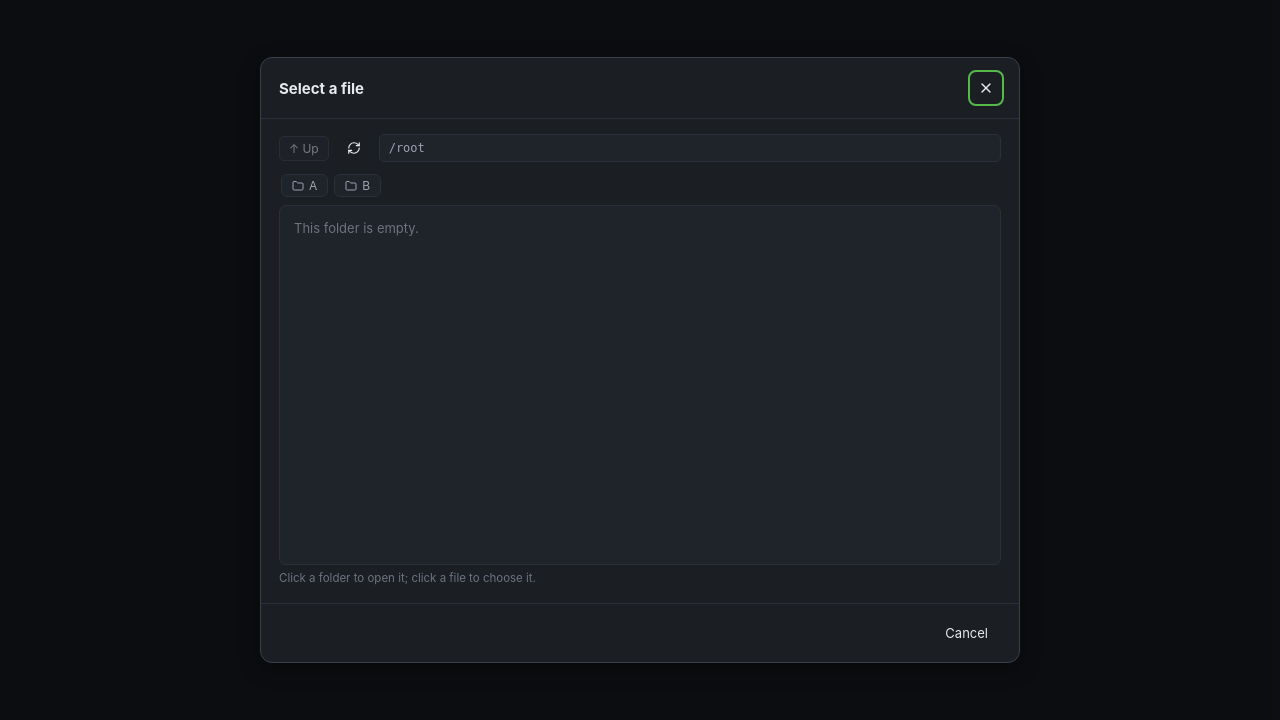
Test case: async request ownership regressions › prevents an older FileBrowser response from replacing the newest path
Expected: the text "/root" is shown, [379,134,1001,162]
Click the button "A": (305, 186) [281,174,328,197]
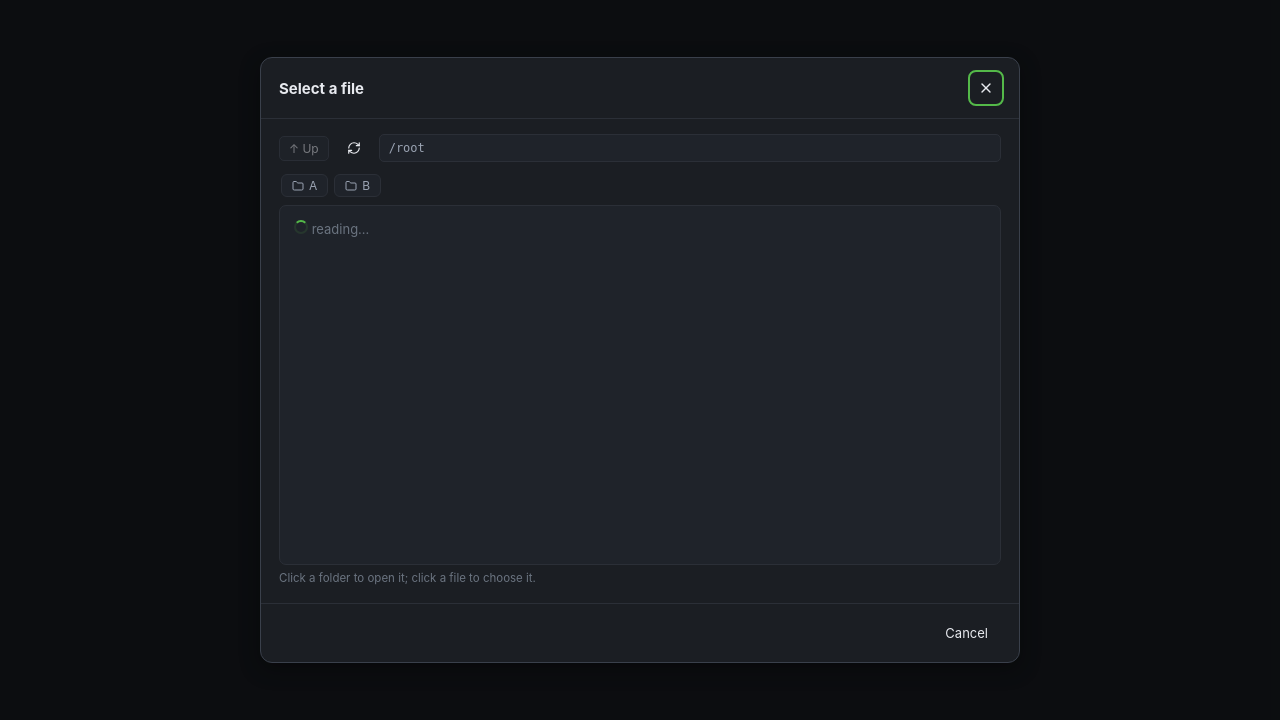
Click the button "B": (358, 186) [334,174,381,197]
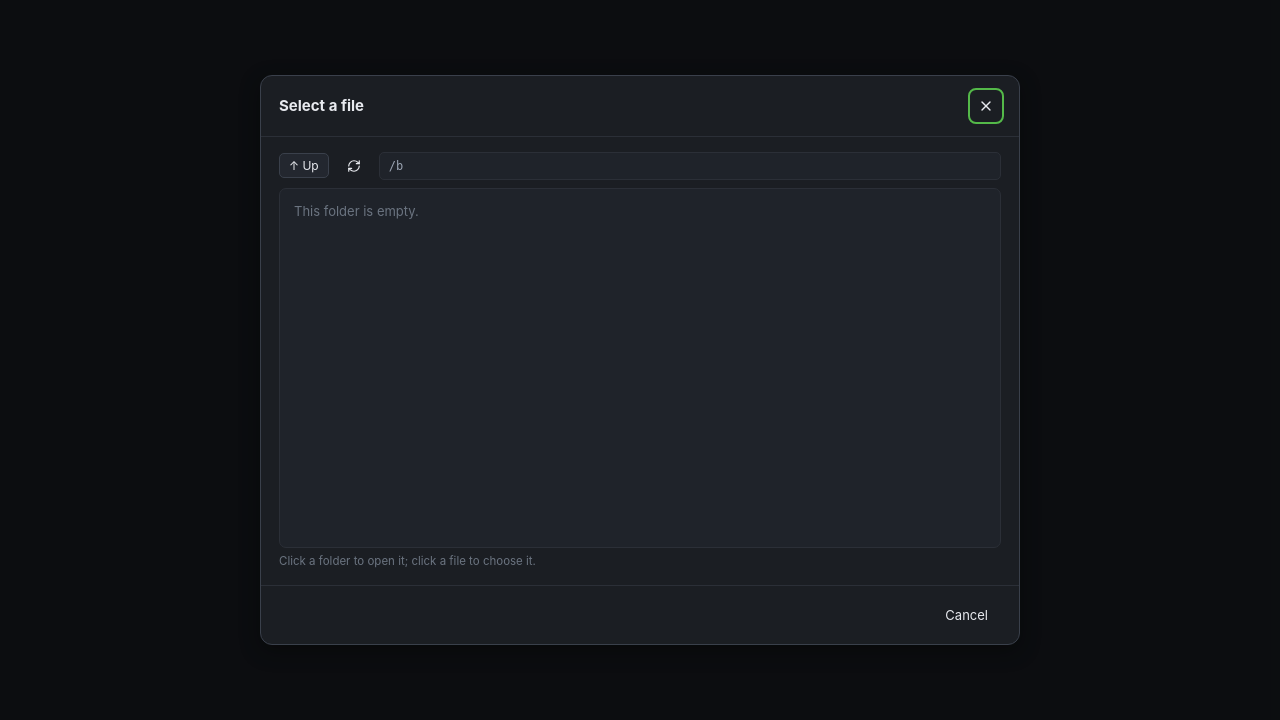
Expected: the text "/b" is shown, [379,152,1001,180]
Expected: the button "/a" is gone
